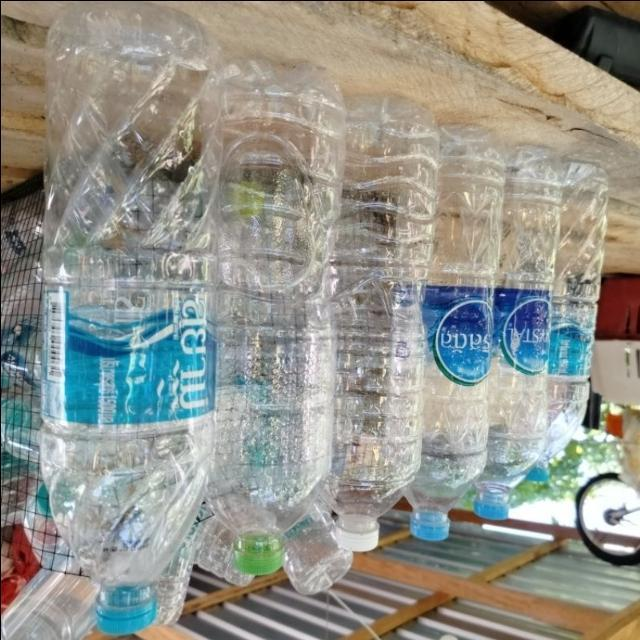PET Bottle: (2, 0, 216, 632), (198, 37, 341, 607), (336, 64, 442, 618), (420, 74, 519, 578), (478, 110, 570, 534), (548, 135, 616, 537)
